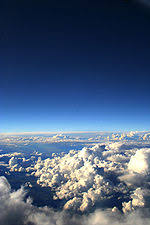sky: (5, 1, 148, 223)
